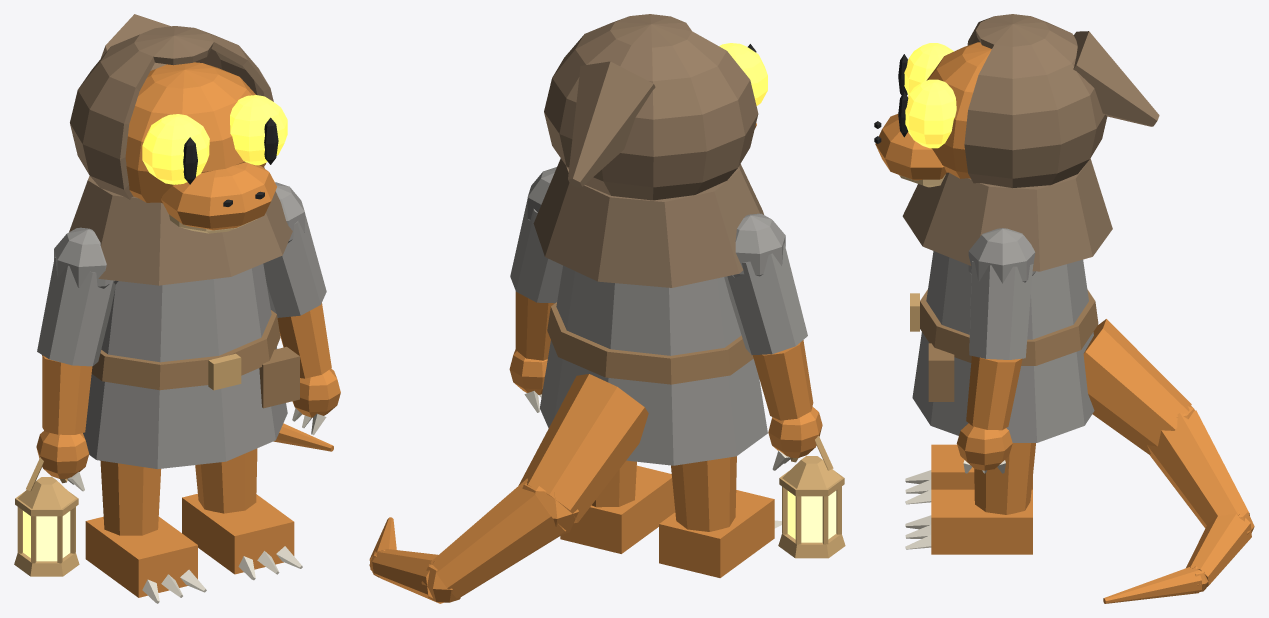
File: race-delvling.glb
3 views of the same model, side by side, from view 1: azimuth 30°, elevation 25°; view 2: azimuth 150°, elevation 25°; view 3: azimuth 270°, elevation 25° (orthographic). The views are drawn at different scales.
Parts seen in each view (by area): view 1: tunic, head, mantle, hood, upper_arm_r, belt, foot_r, foot_l, upper_arm_l, leg_r, lantern, forearm_r (+14 smaller); view 2: hood, tunic, mantle, tail_1, upper_arm_r, tail_2, hood_tip, belt, foot_r, foot_l, leg_r, lantern (+9 smaller); view 3: hood, tunic, mantle, tail_1, upper_arm_l, head, tail_2, foot_l, belt, hood_tip, forearm_l, leg_l (+8 smaller).
Part boxes in pixels (box(x1,y1,x2,y2)): tunic: box(83, 264, 287, 469); head: box(125, 62, 276, 230); mantle: box(69, 167, 292, 285); hood: box(70, 26, 273, 199); upper_arm_r: box(37, 227, 118, 366); belt: box(91, 310, 299, 408); foot_r: box(85, 516, 197, 597); foot_l: box(182, 493, 294, 574); upper_arm_l: box(263, 182, 326, 317); leg_r: box(100, 460, 161, 535); lantern: box(14, 477, 79, 576); forearm_r: box(42, 355, 92, 434); hood: box(544, 14, 758, 200); tunic: box(540, 265, 767, 465); mantle: box(533, 158, 763, 287); tail_1: box(518, 374, 648, 535); upper_arm_r: box(724, 213, 807, 354); tail_2: box(421, 478, 565, 602); hood_tip: box(568, 61, 655, 187); belt: box(547, 302, 753, 384); foot_r: box(659, 490, 774, 577); foot_l: box(560, 465, 675, 553); leg_r: box(671, 456, 736, 531); lantern: box(778, 456, 845, 558); hood: box(964, 14, 1107, 187); tunic: box(912, 251, 1094, 442); mantle: box(902, 158, 1112, 271); tail_1: box(1083, 319, 1194, 454); upper_arm_l: box(968, 228, 1035, 359); head: box(875, 42, 991, 180); tail_2: box(1147, 410, 1254, 534); foot_l: box(931, 489, 1032, 554); belt: box(920, 289, 1098, 401); hood_tip: box(1073, 31, 1159, 126); forearm_l: box(966, 356, 1022, 430); leg_l: box(974, 443, 1035, 514).
Size of what is drawn, in the model's own units: 0.8188 by 1.07 by 0.7469.
